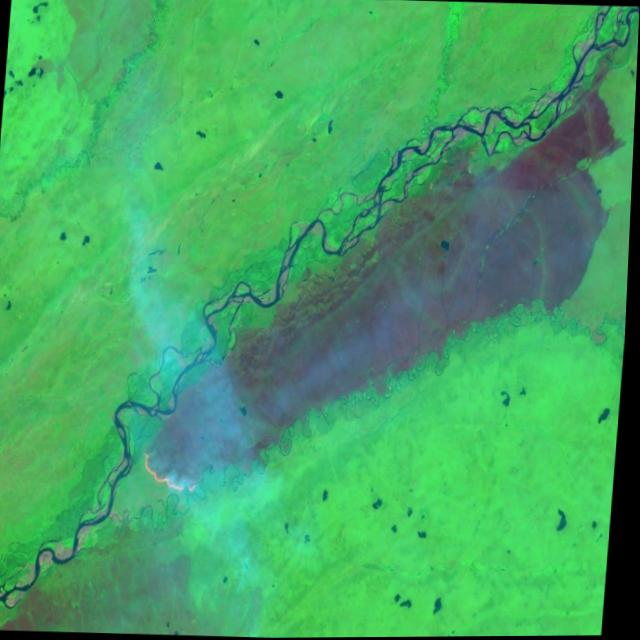fire: (135, 442, 212, 512)
